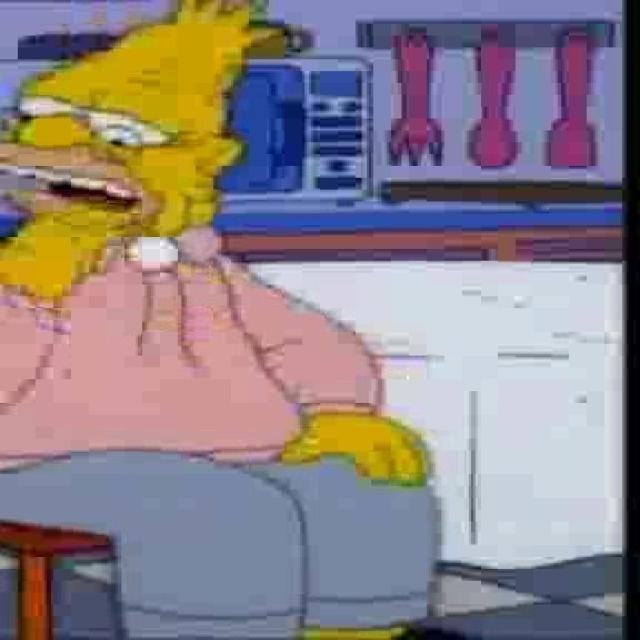Abraham Grampa Simpson: (0, 0, 284, 237)
